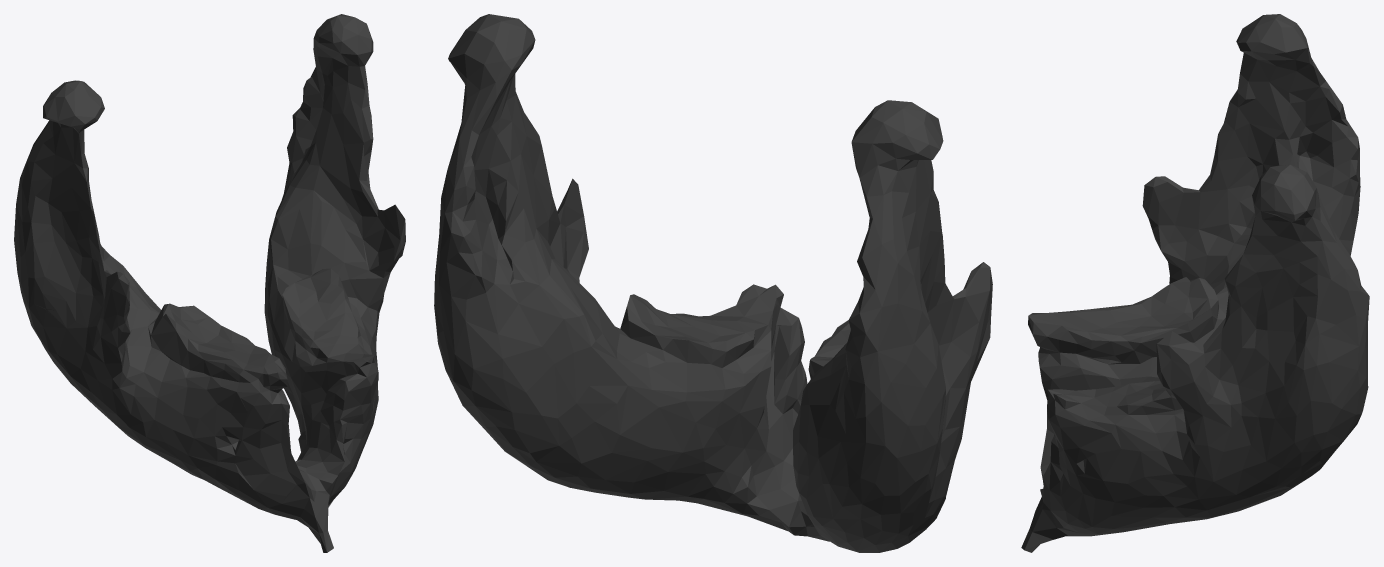
The model's file is reference-fragment.glb.
3 renders of one model, left to right at view 1: azimuth 30°, elevation 25°; view 2: azimuth 150°, elevation 25°; view 3: azimuth 270°, elevation 25°, orthographic. The views are drawn at different scales.
Visible parts, largest first — view 1: woolly-mammoth-150k.obj; view 2: woolly-mammoth-150k.obj; view 3: woolly-mammoth-150k.obj.
Boxes of the visible parts, box(x1,y1,x2,y2) form: woolly-mammoth-150k.obj: box(14, 14, 405, 552); woolly-mammoth-150k.obj: box(434, 14, 992, 552); woolly-mammoth-150k.obj: box(1021, 14, 1369, 552).
Size of the model in its own units: 0.5185 by 0.6081 by 0.4164.
1 material, 1 textured.
